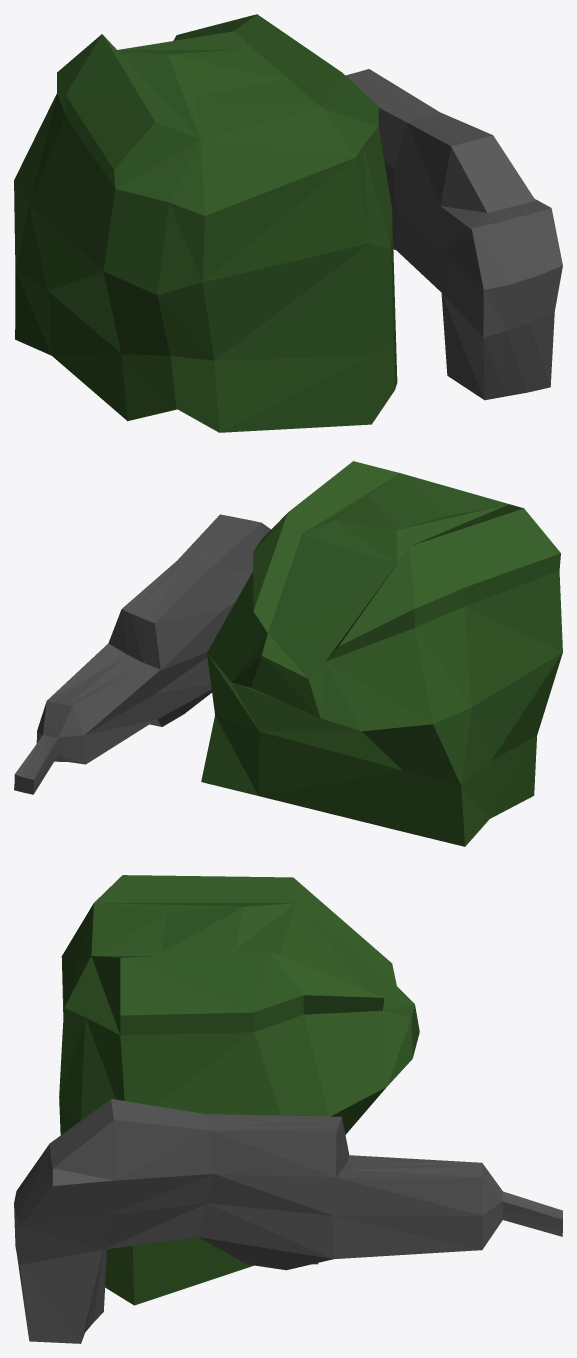
Rendered from MasterChief.fbx.
3 views of the same model, one above another, from view 1: azimuth 30°, elevation 25°; view 2: azimuth 150°, elevation 25°; view 3: azimuth 270°, elevation 25° (orthographic). The views are drawn at different scales.
Visible parts, largest first — view 1: pCube1, pCube2; view 2: pCube1, pCube2; view 3: pCube1, pCube2.
Part boxes in pixels (left/top/right/bottom): pCube1: left=14, top=14, right=397, bottom=432; pCube2: left=345, top=69, right=562, bottom=400; pCube1: left=201, top=461, right=562, bottom=846; pCube2: left=14, top=514, right=271, bottom=794; pCube1: left=59, top=875, right=419, bottom=1305; pCube2: left=14, top=1099, right=562, bottom=1343.
Bounding box in the file's own units: 1.2 × 0.9558 × 1.45.
